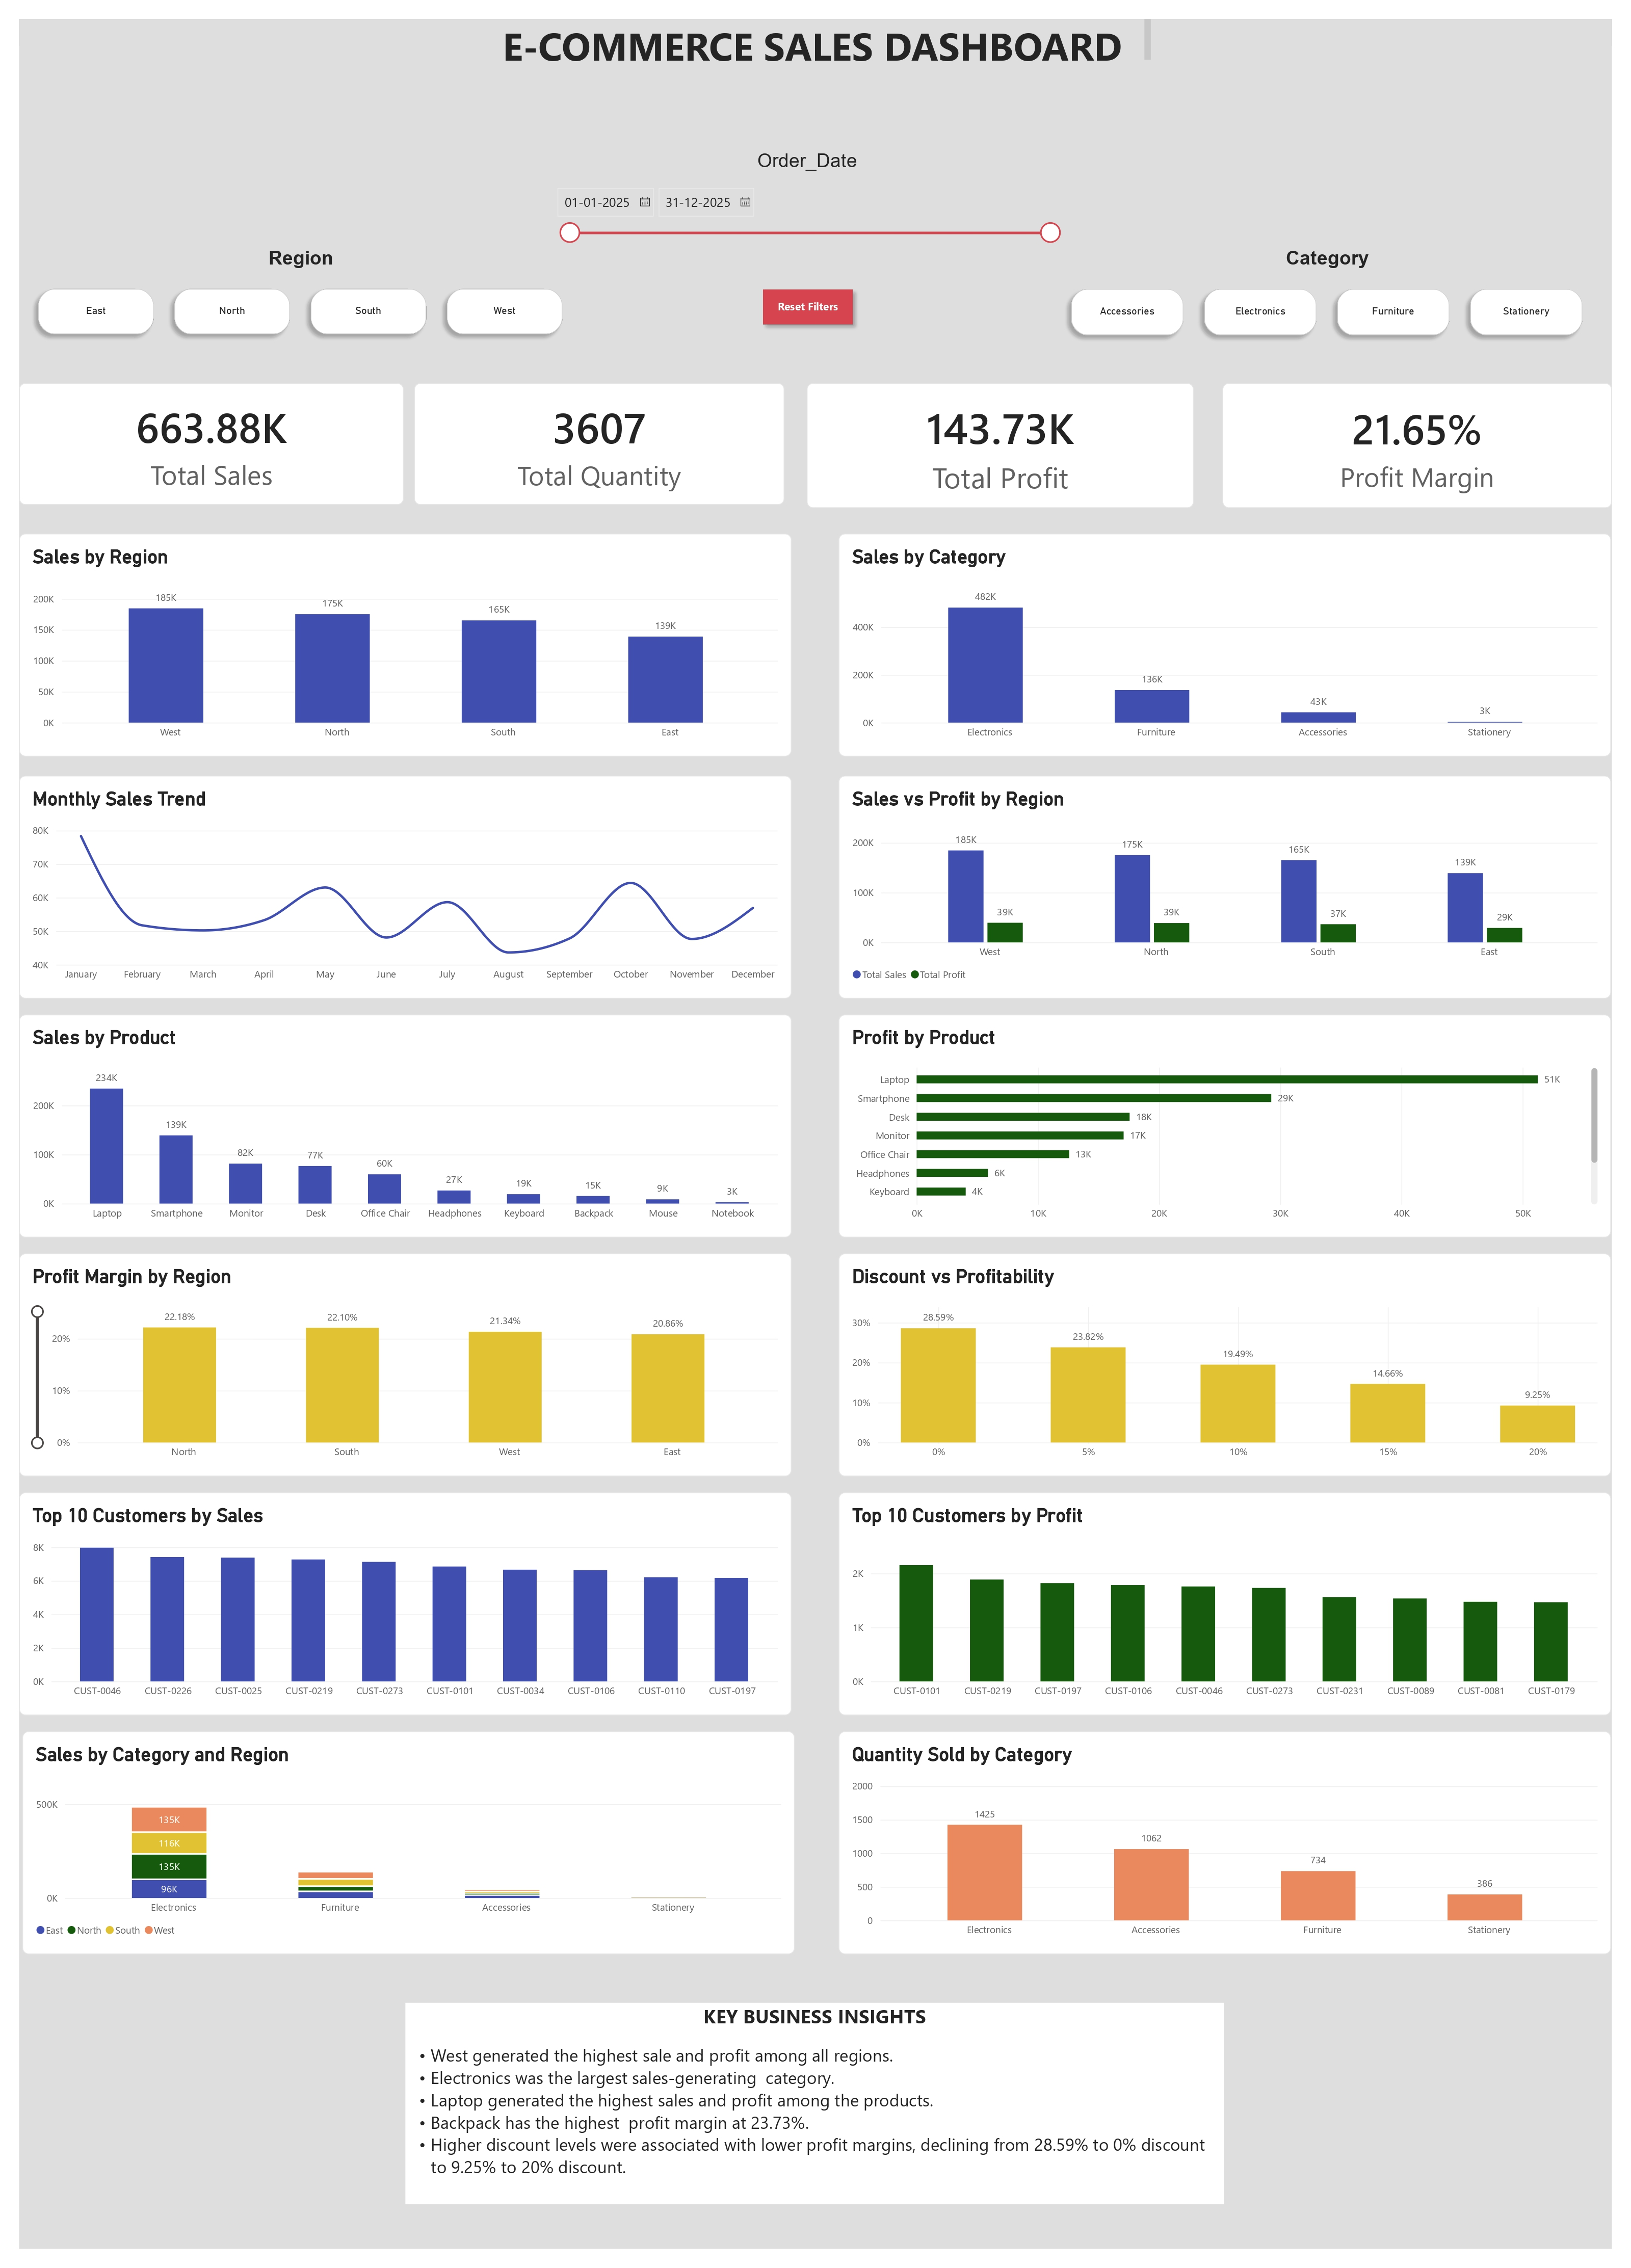

This screenshot's page, from the dashboard's own definition file:
{"tool":"powerbi","page":{"name":"Page 1","canvas":[2000,2800],"ordinal":0},"visuals":[{"type":"card","fields":{"Values":["ecommerce_sales.Total Sales"]},"box":[0,457.1,483.3,153.3],"z":0},{"type":"card","fields":{"Values":["ecommerce_sales.Total Profit"]},"box":[989.3,457.1,485.7,157.1],"z":1000},{"type":"card","fields":{"Values":["ecommerce_sales.Total Quantity"]},"box":[496.4,457.1,464.1,153],"z":2000},{"type":"card","fields":{"Values":["ecommerce_sales.Profit Margin"]},"box":[1510.7,457.1,489.3,157.1],"z":3000},{"type":"clusteredColumnChart","title":"Sales by Region","fields":{"Category":["ecommerce_sales.Region"],"Y":["ecommerce_sales.Total Sales"]},"box":[0,646.4,970,280],"z":4000},{"type":"clusteredColumnChart","title":"Sales by Category","fields":{"Category":["ecommerce_sales.Category"],"Y":["ecommerce_sales.Total Sales"]},"box":[1028.6,646.4,970,280],"z":5000},{"type":"clusteredColumnChart","title":"Sales by Product","fields":{"Category":["ecommerce_sales.Product"],"Y":["ecommerce_sales.Total Sales"]},"box":[0,1250,970,280],"z":6000},{"type":"lineChart","title":"Monthly Sales Trend","fields":{"Category":["ecommerce_sales.Order_Date.Variation.Date Hierarchy.Year","ecommerce_sales.Order_Date.Variation.Date Hierarchy.Month"],"Y":["ecommerce_sales.Total Sales"]},"box":[0,950,970,280],"z":7000},{"type":"clusteredColumnChart","title":"Sales vs Profit by Region","fields":{"Category":["ecommerce_sales.Region"],"Y":["ecommerce_sales.Total Sales","ecommerce_sales.Total Profit"]},"box":[1028.6,950,970,280],"z":8000},{"type":"clusteredColumnChart","title":"Profit Margin by Region","fields":{"Category":["ecommerce_sales.Region"],"Y":["ecommerce_sales.Profit Margin"]},"box":[0,1550,970,280],"z":9000},{"type":"clusteredColumnChart","title":"Discount vs Profitability","fields":{"Category":["ecommerce_sales.Discount"],"Y":["ecommerce_sales.Profit Margin"]},"box":[1028.6,1550,970,280],"z":10000},{"type":"clusteredColumnChart","title":"Top 10 Customers by Sales","fields":{"Category":["ecommerce_sales.Customer_ID"],"Y":["ecommerce_sales.Total Sales"]},"box":[0,1850,970,280],"z":11000},{"type":"clusteredColumnChart","title":"Top 10 Customers by Profit","fields":{"Category":["ecommerce_sales.Customer_ID"],"Y":["ecommerce_sales.Total Profit"]},"box":[1028.6,1850,970,280],"z":12000},{"type":"clusteredColumnChart","title":"Quantity Sold by Category","fields":{"Category":["ecommerce_sales.Category"],"Y":["ecommerce_sales.Total Quantity"]},"box":[1028.6,2150,970,280],"z":13000},{"type":"clusteredBarChart","title":"Profit by Product","fields":{"Category":["ecommerce_sales.Product"],"Y":["ecommerce_sales.Total Profit"]},"box":[1028.6,1250,970,280],"z":14000},{"type":"columnChart","title":"Sales by Category and Region","fields":{"Category":["ecommerce_sales.Category"],"Series":["ecommerce_sales.Region"],"Y":["ecommerce_sales.Total Sales"]},"box":[3.6,2150,970,280],"z":15000},{"type":"textbox","box":[578.6,0,842.9,57.1],"z":16000},{"type":"advancedSlicerVisual","fields":{"Values":["ecommerce_sales.Region"]},"box":[14.3,285.7,679.5,120.5],"z":17000},{"type":"advancedSlicerVisual","fields":{"Values":["ecommerce_sales.Category"]},"box":[1310.7,285.7,664.3,121.4],"z":18000},{"type":"slicer","title":"Order_Date","fields":{"Values":["ecommerce_sales.Order_Date"]},"box":[667.9,164.3,642.9,121.4],"z":19000},{"type":"actionButton","title":"Reset Filters","box":[925,330,130.9,61.8],"z":19001},{"type":"textbox","box":[485.2,2490.7,1027.8,253.7],"z":19002}]}

Visuals, with their boxes on the page's 2000x2800 design canvas (x1, y1, x2, y2). These are canvas units, not pixel positions in the 1631x2268 screenshot, which may show the page scaled, cropped or inside an application window:
card - ecommerce_sales.Total Sales: <bbox>0, 457, 483, 610</bbox>
card - ecommerce_sales.Total Profit: <bbox>989, 457, 1475, 614</bbox>
card - ecommerce_sales.Total Quantity: <bbox>496, 457, 960, 610</bbox>
card - ecommerce_sales.Profit Margin: <bbox>1511, 457, 2000, 614</bbox>
"Sales by Region" clusteredColumnChart: <bbox>0, 646, 970, 926</bbox>
"Sales by Category" clusteredColumnChart: <bbox>1029, 646, 1999, 926</bbox>
"Sales by Product" clusteredColumnChart: <bbox>0, 1250, 970, 1530</bbox>
"Monthly Sales Trend" lineChart: <bbox>0, 950, 970, 1230</bbox>
"Sales vs Profit by Region" clusteredColumnChart: <bbox>1029, 950, 1999, 1230</bbox>
"Profit Margin by Region" clusteredColumnChart: <bbox>0, 1550, 970, 1830</bbox>
"Discount vs Profitability" clusteredColumnChart: <bbox>1029, 1550, 1999, 1830</bbox>
"Top 10 Customers by Sales" clusteredColumnChart: <bbox>0, 1850, 970, 2130</bbox>
"Top 10 Customers by Profit" clusteredColumnChart: <bbox>1029, 1850, 1999, 2130</bbox>
"Quantity Sold by Category" clusteredColumnChart: <bbox>1029, 2150, 1999, 2430</bbox>
"Profit by Product" clusteredBarChart: <bbox>1029, 1250, 1999, 1530</bbox>
"Sales by Category and Region" columnChart: <bbox>4, 2150, 974, 2430</bbox>
textbox: <bbox>579, 0, 1422, 57</bbox>
advancedSlicerVisual - ecommerce_sales.Region: <bbox>14, 286, 694, 406</bbox>
advancedSlicerVisual - ecommerce_sales.Category: <bbox>1311, 286, 1975, 407</bbox>
"Order_Date" slicer: <bbox>668, 164, 1311, 286</bbox>
"Reset Filters" actionButton: <bbox>925, 330, 1056, 392</bbox>
textbox: <bbox>485, 2491, 1513, 2744</bbox>
